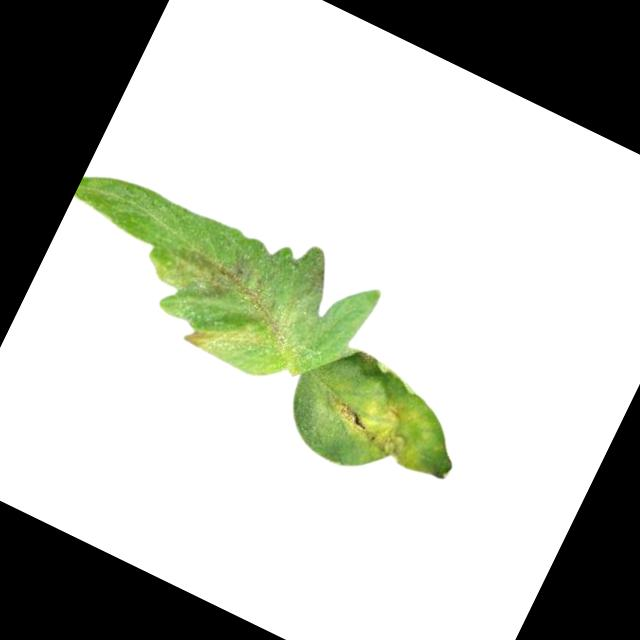Late_blight: (161, 229, 312, 345), (324, 375, 445, 474), (181, 303, 283, 381)
